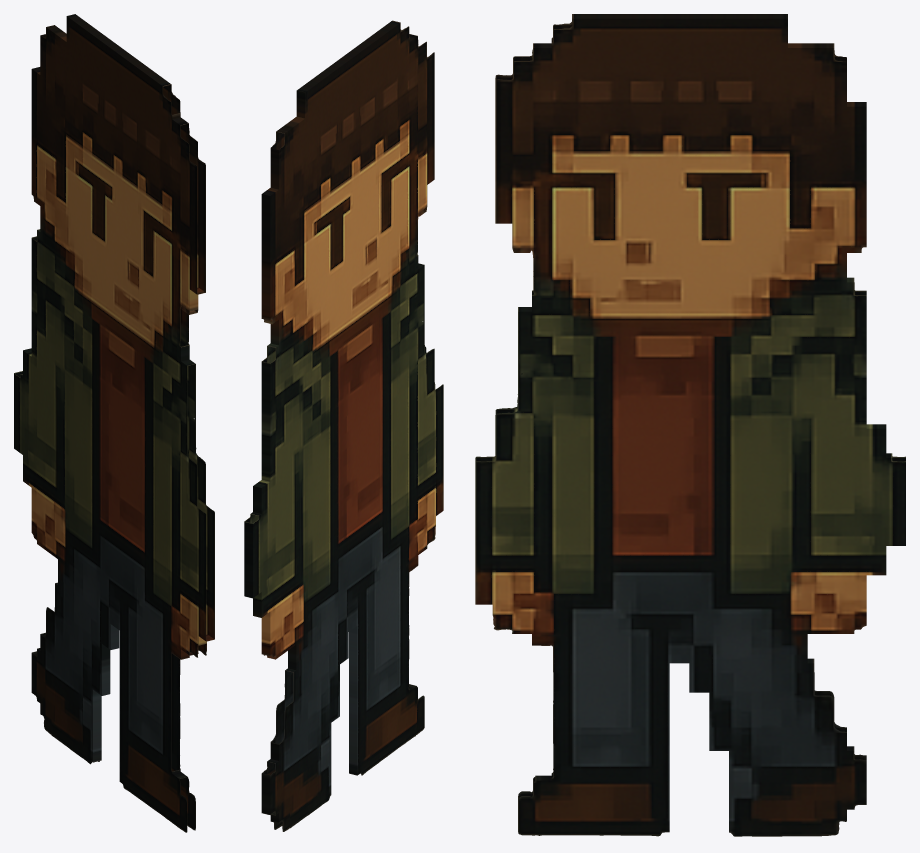
3 renders of one model, left to right at view 1: azimuth 30°, elevation 25°; view 2: azimuth 150°, elevation 25°; view 3: azimuth 270°, elevation 25°, orthographic. The views are drawn at different scales.
Visible parts, largest first — view 1: ChatGPT Image 12_06_2025, 19_22_11.009; view 2: ChatGPT Image 12_06_2025, 19_22_11.009; view 3: ChatGPT Image 12_06_2025, 19_22_11.009.
Part boxes in pixels (bbox=[...]): ChatGPT Image 12_06_2025, 19_22_11.009: bbox=[14, 14, 214, 832]; ChatGPT Image 12_06_2025, 19_22_11.009: bbox=[244, 20, 443, 831]; ChatGPT Image 12_06_2025, 19_22_11.009: bbox=[475, 14, 905, 836].
Size of the model in its own units: 1 by 81.97 by 39.18.
1 material, 1 textured.
